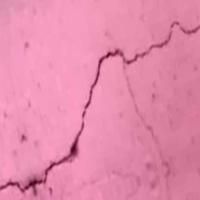crack: (0, 32, 137, 199)
